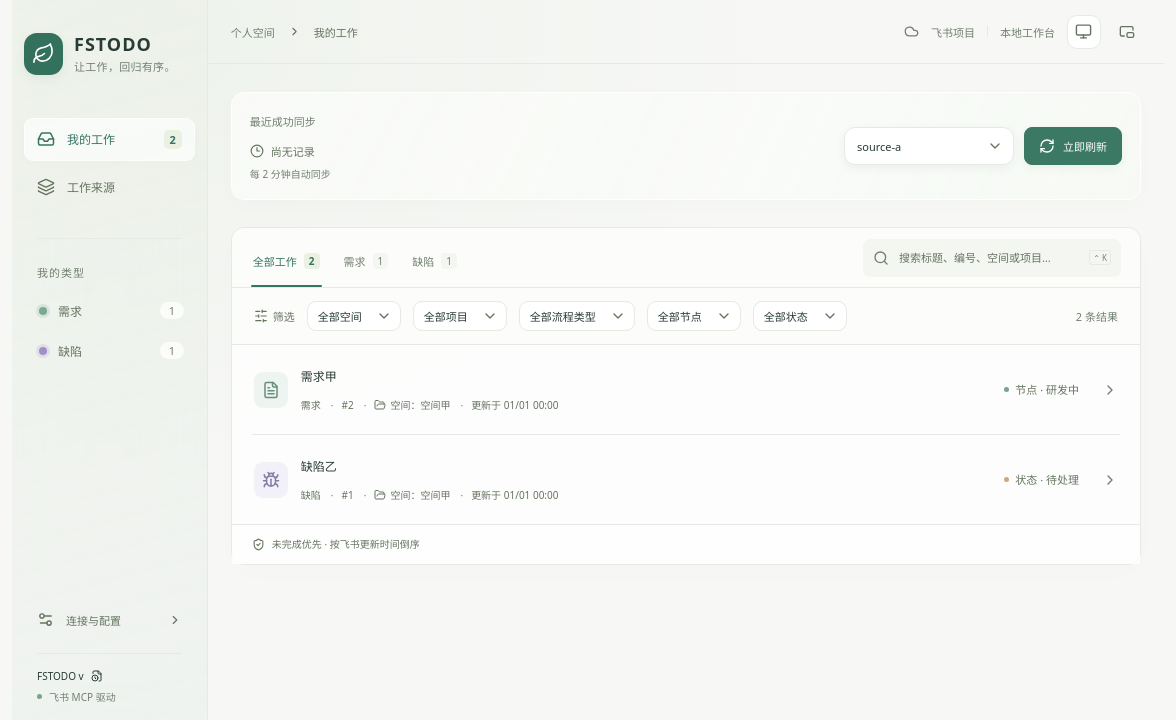
Test case: 清单模式 › 切到清单以 Tab 继承类型，搜索独立显示，返回完整模式继续使用
Expected: the text "需求甲" is shown, [301,368,337,385]
Type "缺陷" into the field named "搜索工作" at (989,258), box [897,249,1081,266]
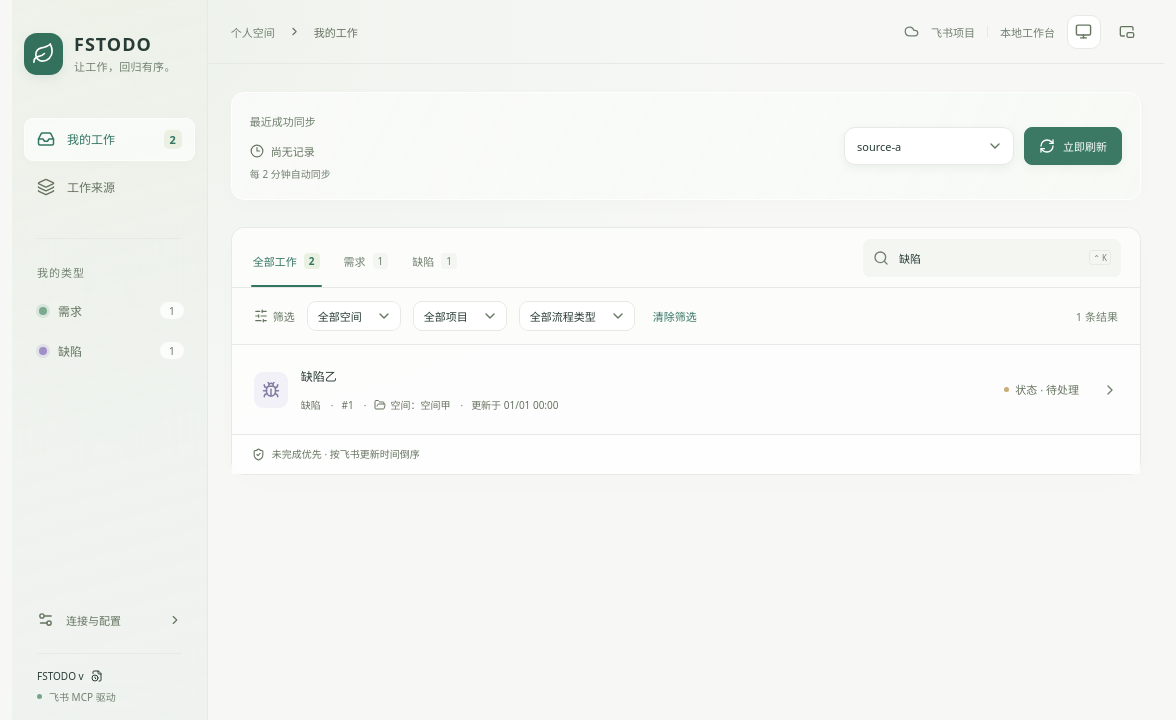
Click the button "缺陷 1" in the row of "⌃ K" at (435,262), box [410,238,459,287]
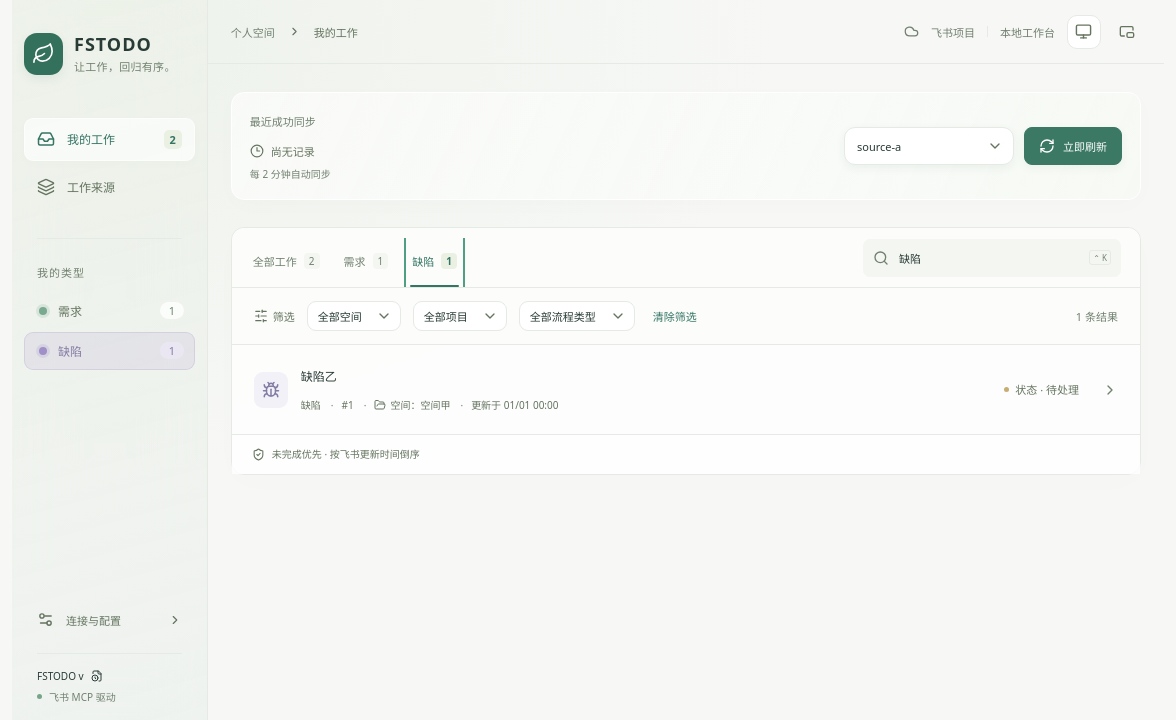
Expected: the button "需求甲" is not shown
Click the button named "切换到清单模式" at (1127,32), box [1113,18,1141,46]
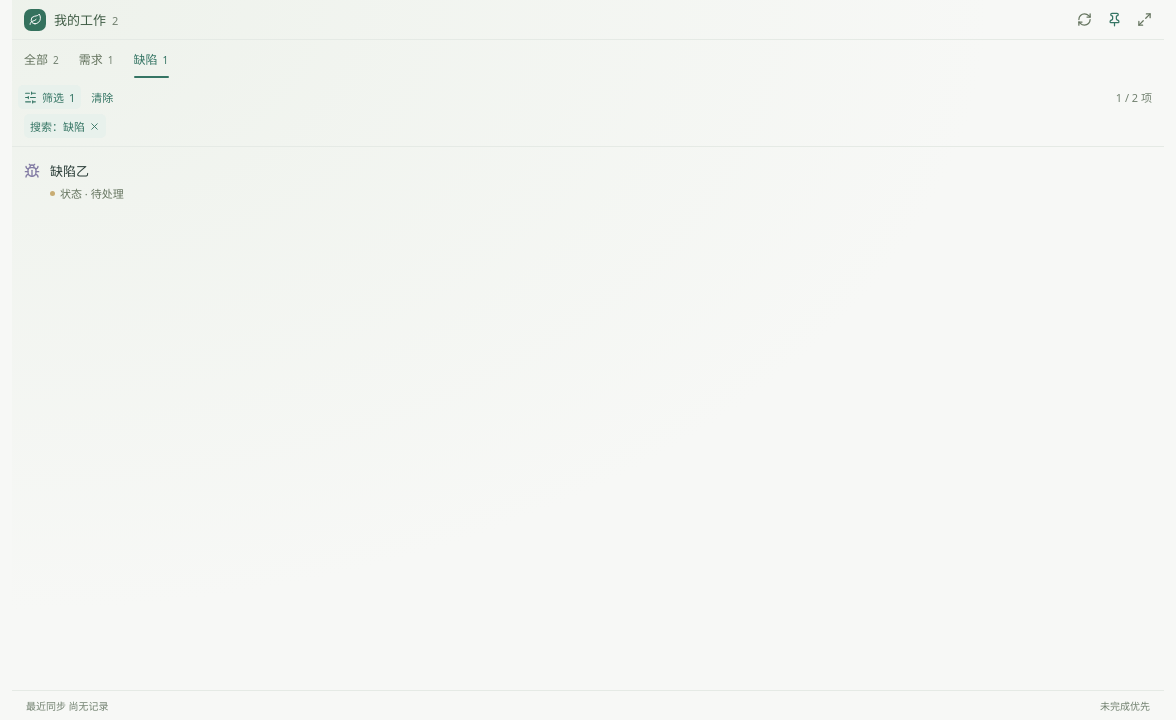
Now the button with aria-label "清单筛选" reads "筛选 1", box [18,85,81,109]
Now the button with aria-label "取消搜索：缺陷" is shown
Now the text "1 / 2 项" is shown, box [1116,89,1152,105]
Click the button with aria-label "取消搜索：缺陷" at (65,126), box [24,114,106,138]
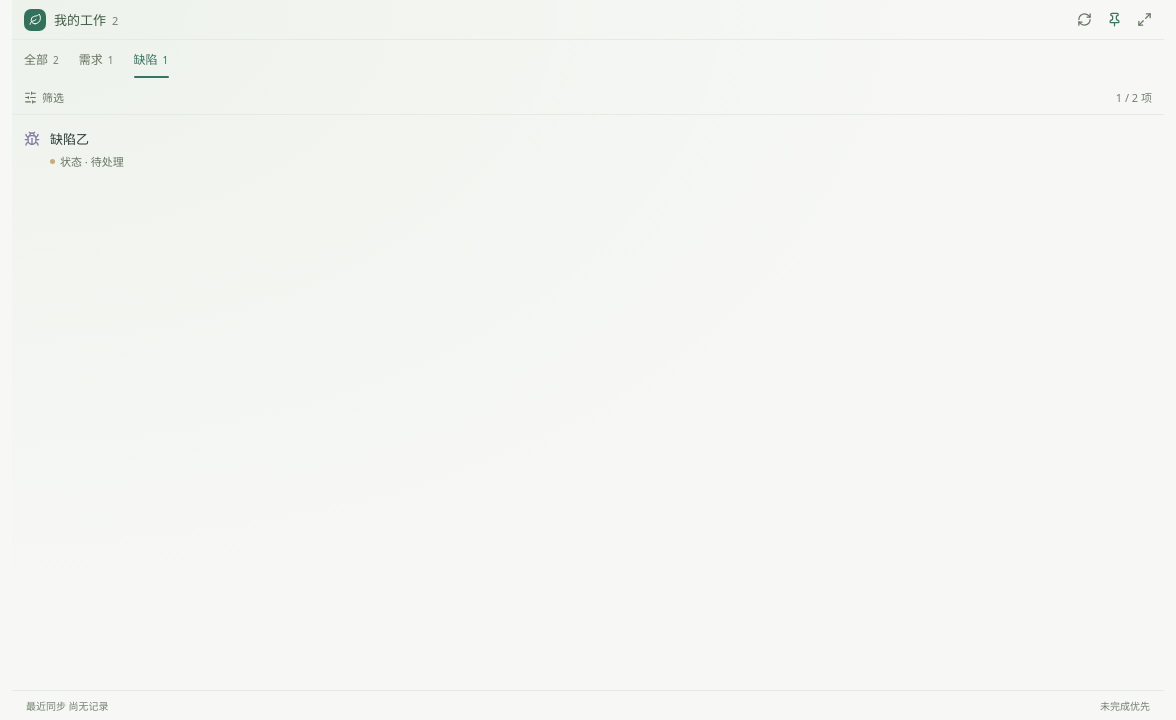
Expected: the button "需求甲" is not shown
Now the button with aria-label "清单筛选" reads "筛选", box [18,85,70,109]
Now the element "当前筛选条件" is gone
Click the button named "切换到完整模式" at (1144,20), box [1130,6,1158,34]
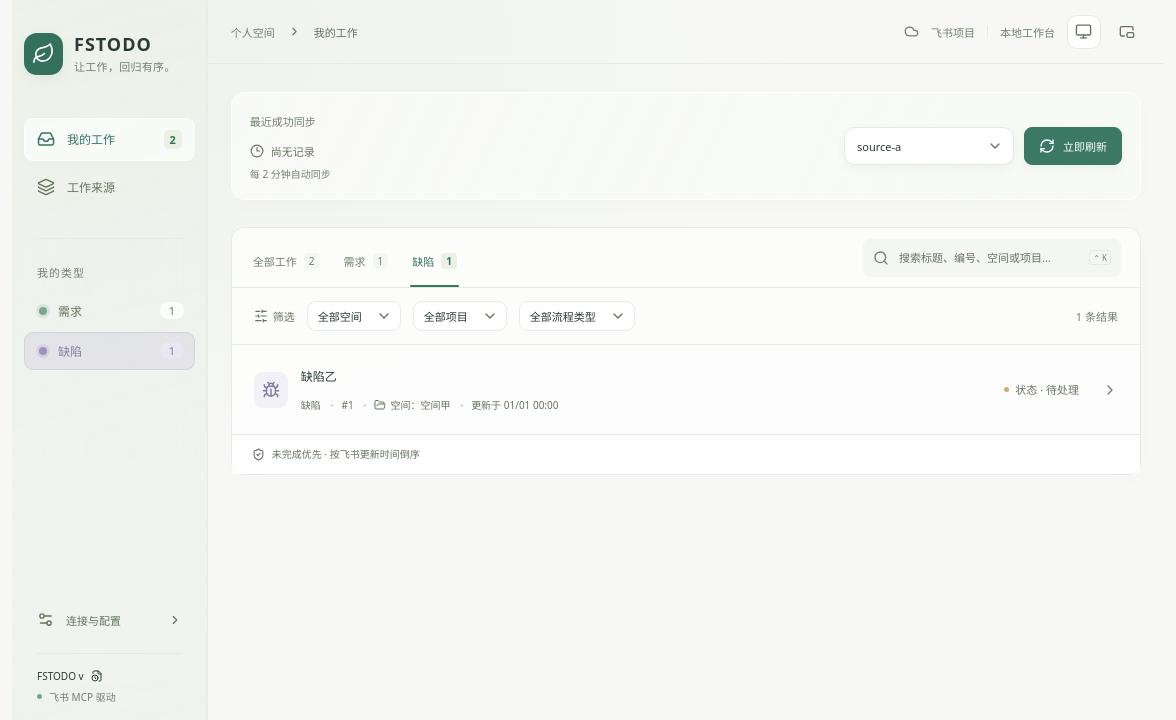
Expected: the button "需求甲" is not shown
Now the field named "搜索工作" is empty, box [897,249,1081,266]
Now the dropdown labelled "事项类型" is gone
